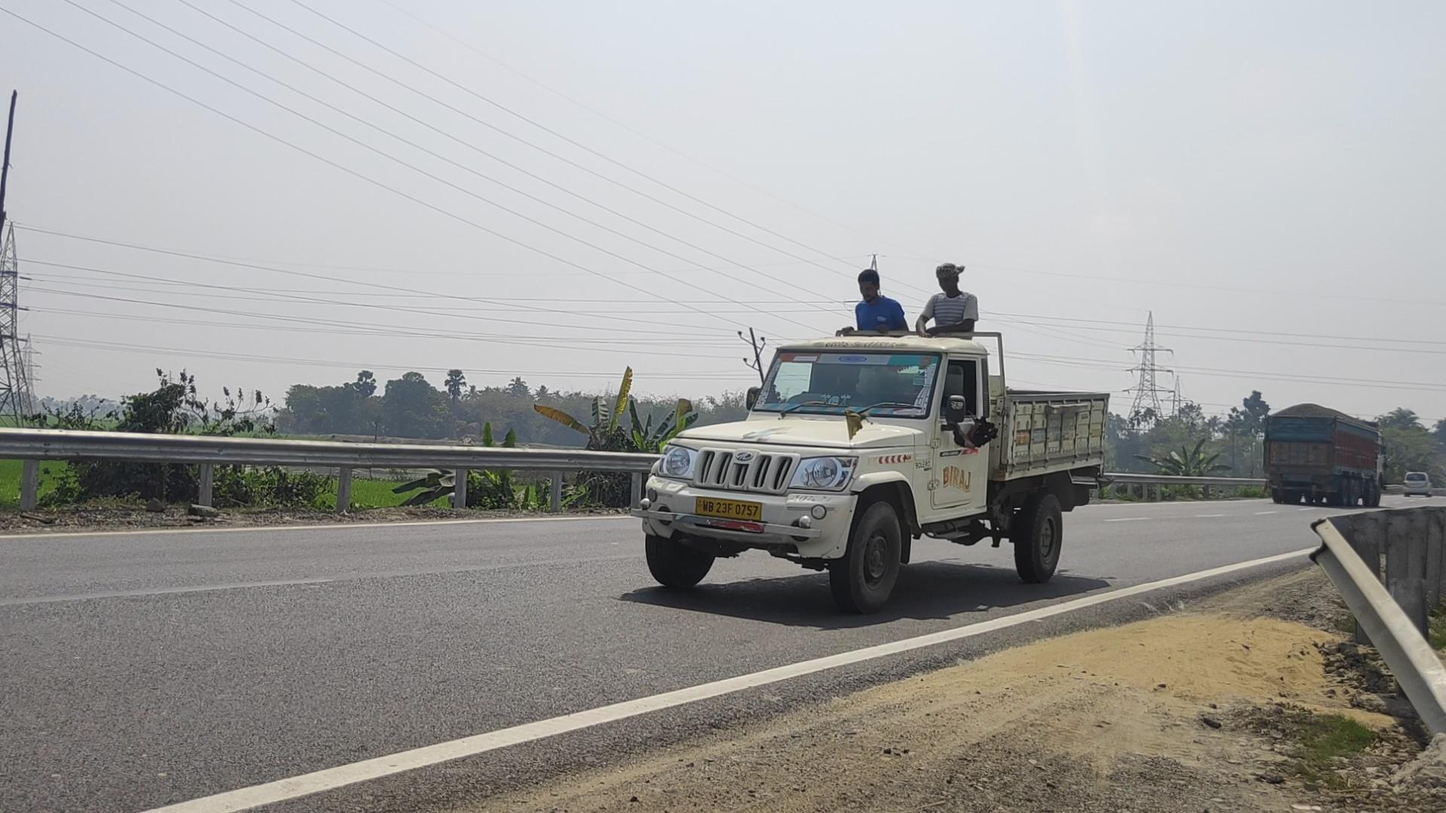car: (1402, 470, 1433, 498)
truck: (1262, 403, 1385, 507)
van: (631, 263, 1111, 615)
